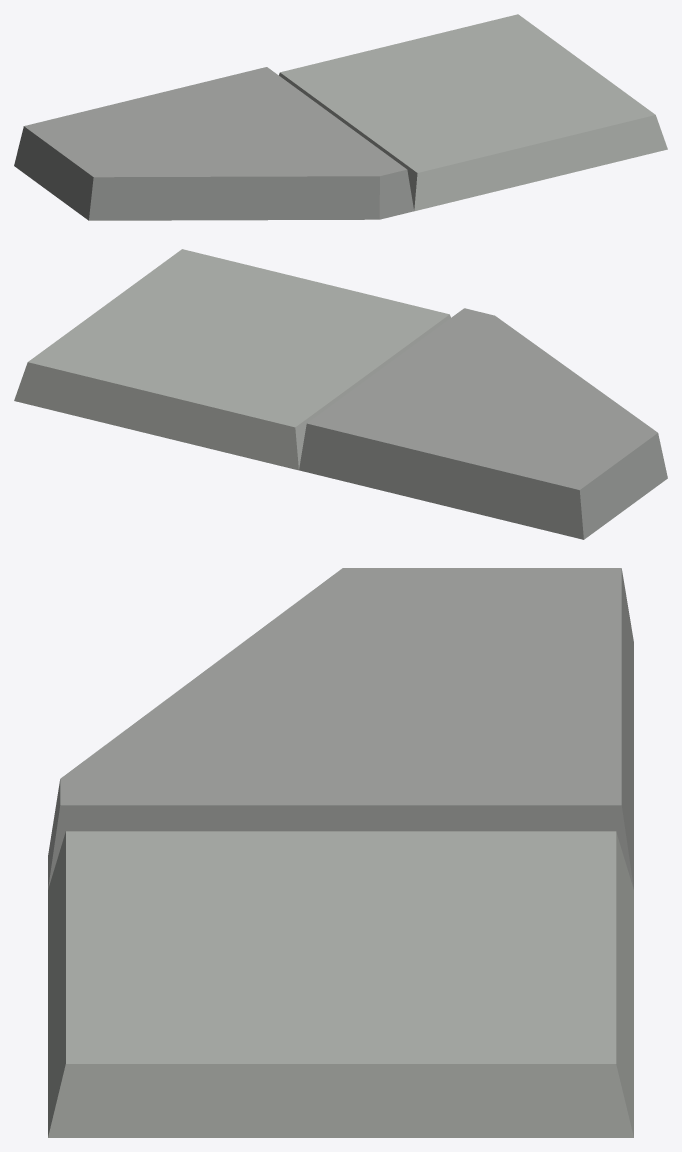
Rendered from Rock_Tiles_m_09.fbx.
3 renders of one model, top to bottom at view 1: azimuth 30°, elevation 25°; view 2: azimuth 150°, elevation 25°; view 3: azimuth 270°, elevation 25°, orthographic. The views are drawn at different scales.
Visible parts, largest first — view 1: Rock_Tiles_m_09; view 2: Rock_Tiles_m_09; view 3: Rock_Tiles_m_09.
Part boxes in pixels (x1,y1,x2,y2): Rock_Tiles_m_09: (14, 14, 667, 220); Rock_Tiles_m_09: (14, 249, 667, 539); Rock_Tiles_m_09: (48, 568, 633, 1137).
Bounding box in the file's own units: 80 × 6.1 × 40.
